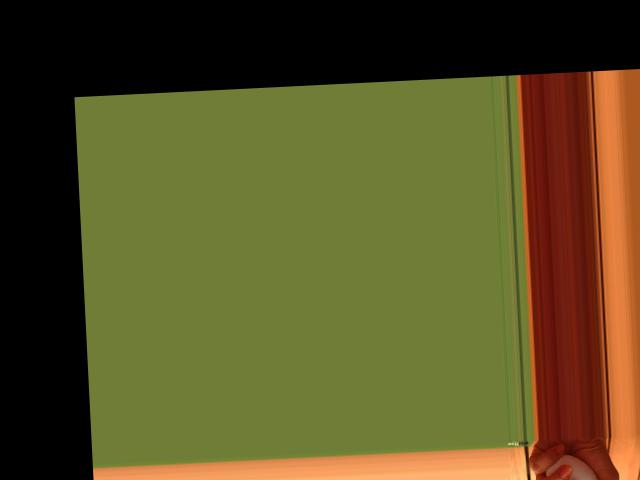egg: (543, 452, 599, 480)
